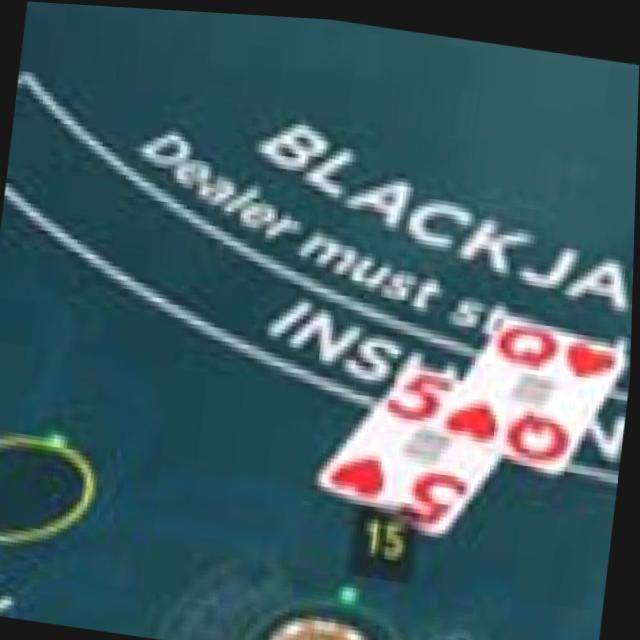Card-5: (319, 355, 503, 532)
Card-Q: (440, 304, 629, 471)
